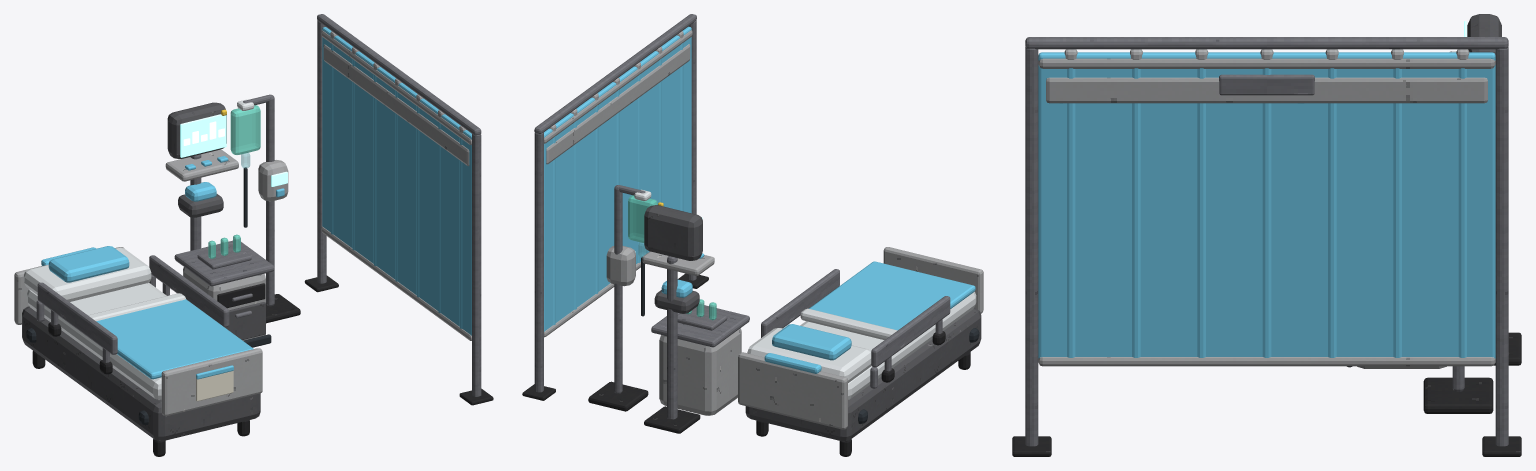
The model's file is decor_med_patient_bay.glb.
The picture shows the model from 3 angles, left to right: view 1: azimuth 30°, elevation 25°; view 2: azimuth 150°, elevation 25°; view 3: azimuth 270°, elevation 25°; orthographic projection. The views are drawn at different scales.
Parts seen in each view (by area): view 1: DEC_MedPatientBay__Screen_Curtain, DEC_MedPatientBay__Bed_Base, DEC_MedPatientBay__Bed_Blanket, DEC_MedPatientBay__Bed_Foot_Board, DEC_MedPatientBay__Bed_Mattress, DEC_MedPatientBay__Bed_Headrest, DEC_MedPatientBay__Screen_Breathable_Band, DEC_MedPatientBay__Screen_Post_Foot, DEC_MedPatientBay__Cabinet_Top, DEC_MedPatientBay__Bed_Pillow, DEC_MedPatientBay__Screen_Rail, DEC_MedPatientBay__Bed_Rail_1 (+28 smaller); view 2: DEC_MedPatientBay__Screen_Curtain, DEC_MedPatientBay__Bed_Base, DEC_MedPatientBay__Bed_Blanket, DEC_MedPatientBay__Bed_Head_Board, DEC_MedPatientBay__Cabinet_Body, DEC_MedPatientBay__Monitor_Body, DEC_MedPatientBay__Screen_Post_Head, DEC_MedPatientBay__Screen_Breathable_Band, DEC_MedPatientBay__Bed_Mattress, DEC_MedPatientBay__Bed_Foot_Board, DEC_MedPatientBay__Bed_Headrest, DEC_MedPatientBay__Bed_Pillow (+22 smaller); view 3: DEC_MedPatientBay__Screen_Curtain, DEC_MedPatientBay__Screen_Breathable_Band, DEC_MedPatientBay__Screen_Rail, DEC_MedPatientBay__Screen_Post_Foot, DEC_MedPatientBay__Screen_Post_Head, DEC_MedPatientBay__Screen_Upper_Hem, DEC_MedPatientBay__Screen_Lower_Hem, DEC_MedPatientBay__Screen_Fold_4, DEC_MedPatientBay__IV_Base, DEC_MedPatientBay__Screen_Fold_2, DEC_MedPatientBay__Screen_Fold_3, DEC_MedPatientBay__Screen_Fold_5 (+7 smaller).
Boxes of the visible parts, x1,y1,x2,y2 form: DEC_MedPatientBay__Screen_Curtain: (322, 27, 471, 335); DEC_MedPatientBay__Bed_Base: (22, 306, 260, 440); DEC_MedPatientBay__Bed_Blanket: (96, 299, 253, 379); DEC_MedPatientBay__Bed_Foot_Board: (161, 348, 262, 416); DEC_MedPatientBay__Bed_Mattress: (27, 283, 166, 399); DEC_MedPatientBay__Bed_Headrest: (23, 247, 151, 301); DEC_MedPatientBay__Screen_Breathable_Band: (323, 44, 469, 166); DEC_MedPatientBay__Screen_Post_Foot: (472, 133, 481, 396); DEC_MedPatientBay__Cabinet_Top: (174, 240, 274, 286); DEC_MedPatientBay__Bed_Pillow: (48, 246, 129, 282); DEC_MedPatientBay__Screen_Rail: (317, 14, 481, 135); DEC_MedPatientBay__Bed_Rail_1: (37, 282, 117, 354); DEC_MedPatientBay__Screen_Curtain: (544, 26, 691, 331); DEC_MedPatientBay__Bed_Base: (745, 308, 981, 441); DEC_MedPatientBay__Bed_Blanket: (809, 261, 975, 330); DEC_MedPatientBay__Bed_Head_Board: (738, 352, 847, 429); DEC_MedPatientBay__Cabinet_Body: (659, 328, 741, 415); DEC_MedPatientBay__Monitor_Body: (644, 205, 702, 260); DEC_MedPatientBay__Screen_Post_Head: (534, 132, 543, 392); DEC_MedPatientBay__Screen_Breathable_Band: (546, 44, 690, 164); DEC_MedPatientBay__Bed_Mattress: (800, 291, 976, 399); DEC_MedPatientBay__Bed_Foot_Board: (883, 247, 983, 313); DEC_MedPatientBay__Bed_Headrest: (747, 328, 871, 382); DEC_MedPatientBay__Bed_Pillow: (772, 324, 851, 360); DEC_MedPatientBay__Screen_Curtain: (1038, 52, 1495, 358); DEC_MedPatientBay__Screen_Breathable_Band: (1046, 77, 1487, 103); DEC_MedPatientBay__Screen_Rail: (1025, 37, 1508, 49); DEC_MedPatientBay__Screen_Post_Foot: (1025, 46, 1038, 446); DEC_MedPatientBay__Screen_Post_Head: (1495, 46, 1508, 446); DEC_MedPatientBay__Screen_Upper_Hem: (1038, 58, 1495, 68); DEC_MedPatientBay__Screen_Lower_Hem: (1038, 357, 1495, 366); DEC_MedPatientBay__Screen_Fold_4: (1262, 68, 1271, 357); DEC_MedPatientBay__IV_Base: (1423, 377, 1493, 413); DEC_MedPatientBay__Screen_Fold_2: (1132, 68, 1140, 357); DEC_MedPatientBay__Screen_Fold_3: (1197, 68, 1205, 357); DEC_MedPatientBay__Screen_Fold_5: (1328, 68, 1336, 357).
Size of the model in its own units: 2.63 by 2.08 by 2.34.
Materials: 13 (4 with a texture image).
